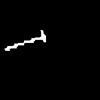half_double_crochet: (5, 30, 45, 50)
